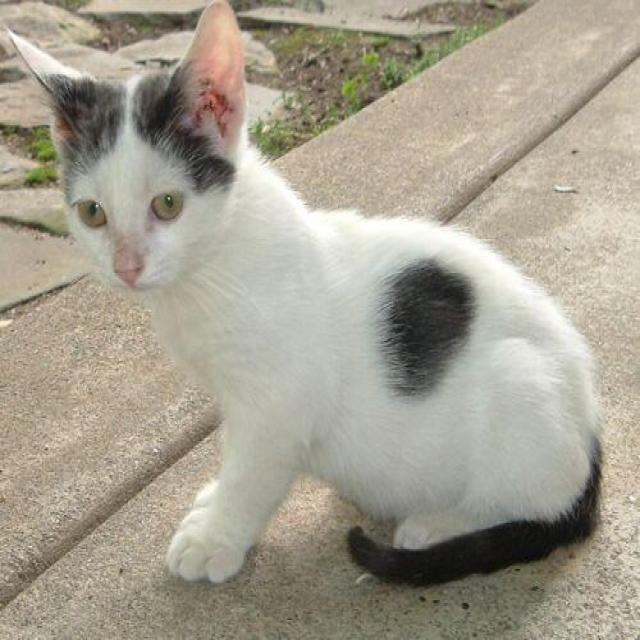cat: (5, 1, 628, 592)
